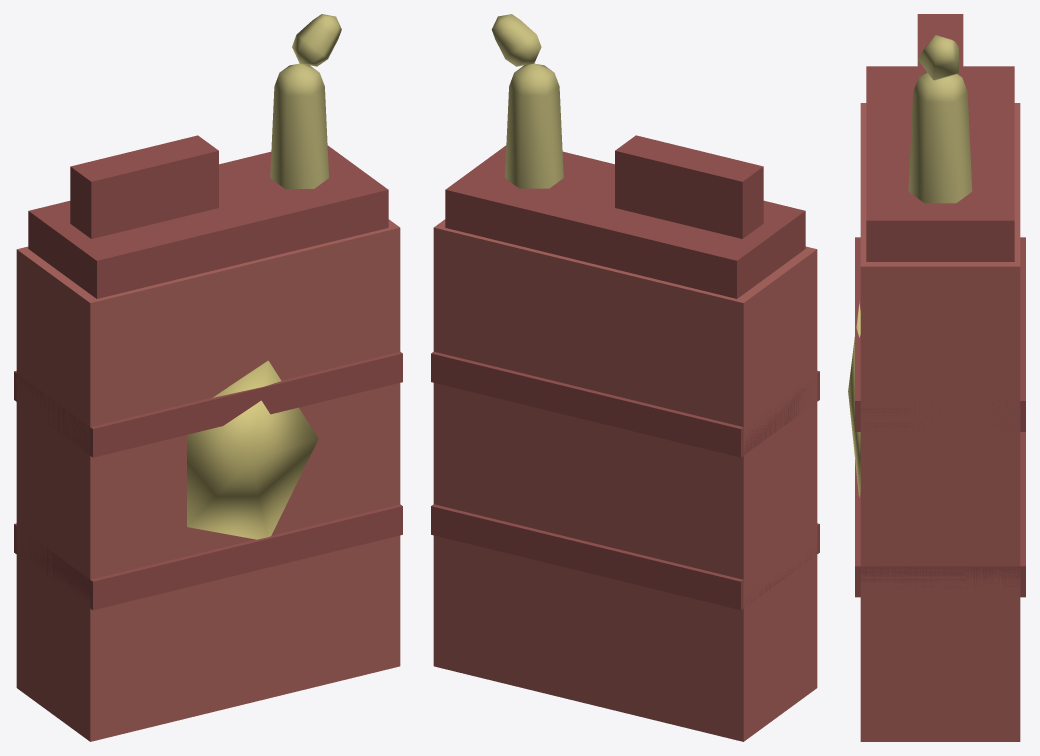
File: galao_combustivel.glb
3 renders of one model, left to right at view 1: azimuth 30°, elevation 25°; view 2: azimuth 150°, elevation 25°; view 3: azimuth 270°, elevation 25°, orthographic. The views are drawn at different scales.
Parts seen in each view (by area): view 1: galao_combustivel; view 2: galao_combustivel; view 3: galao_combustivel.
Part boxes in pixels (left/top/right/bottom): galao_combustivel: left=14, top=14, right=402, bottom=741; galao_combustivel: left=431, top=14, right=819, bottom=741; galao_combustivel: left=848, top=14, right=1025, bottom=741.
Size of the model in its own units: 0.34 by 0.6641 by 0.156.
